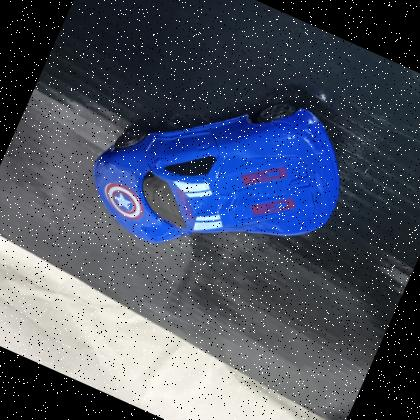Car: (68, 31, 374, 314)
